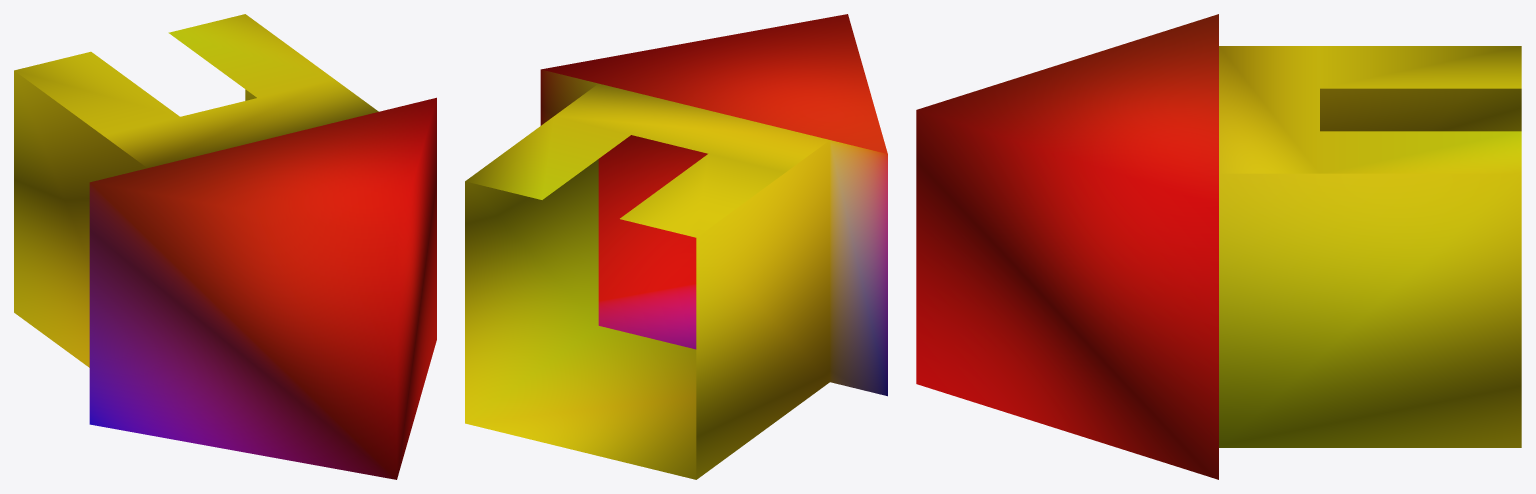
The model's file is house.obj.
3 renders of one model, left to right at view 1: azimuth 30°, elevation 25°; view 2: azimuth 150°, elevation 25°; view 3: azimuth 270°, elevation 25°, orthographic. The views are drawn at different scales.
Parts seen in each view (by area): view 1: Cube_Cube.001; view 2: Cube_Cube.001; view 3: Cube_Cube.001.
Part boxes in pixels (x1,y1,x2,y2): Cube_Cube.001: (14,14,436,479); Cube_Cube.001: (465,14,887,479); Cube_Cube.001: (916,14,1521,479).
Bounding box in the file's own units: 1.5 × 1 × 2.
